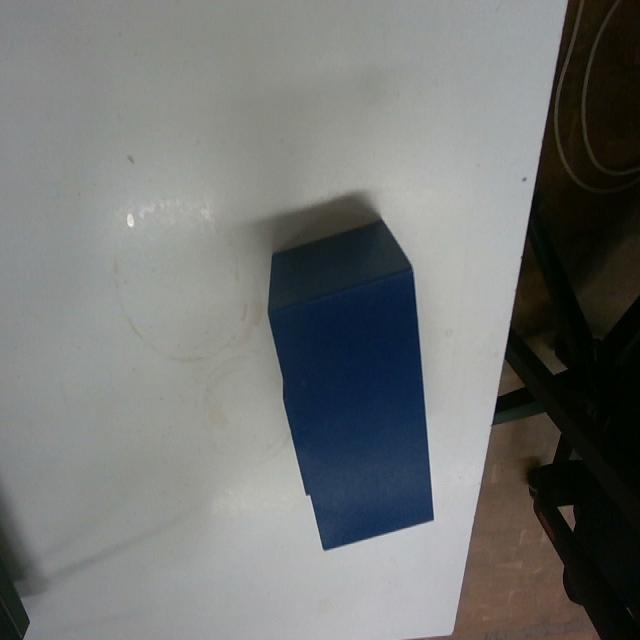Blue Cuboid: (265, 214, 436, 550)
